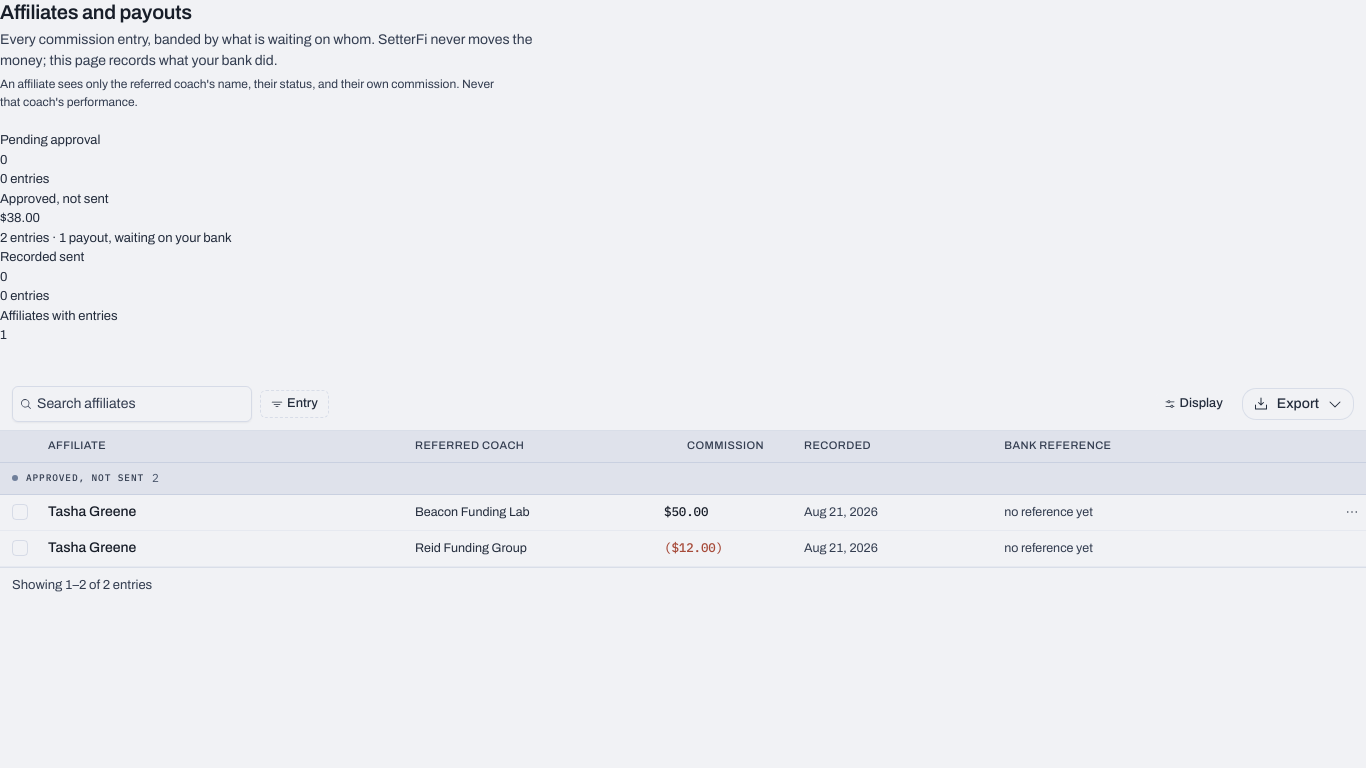
AdminMoneyAffiliates › says so when the entries it holds do not add up to the recorded payout total
Click the button "Tasha Greene" next to "Beacon Funding Lab". click: (92, 511)
box: [48,494,391,530]
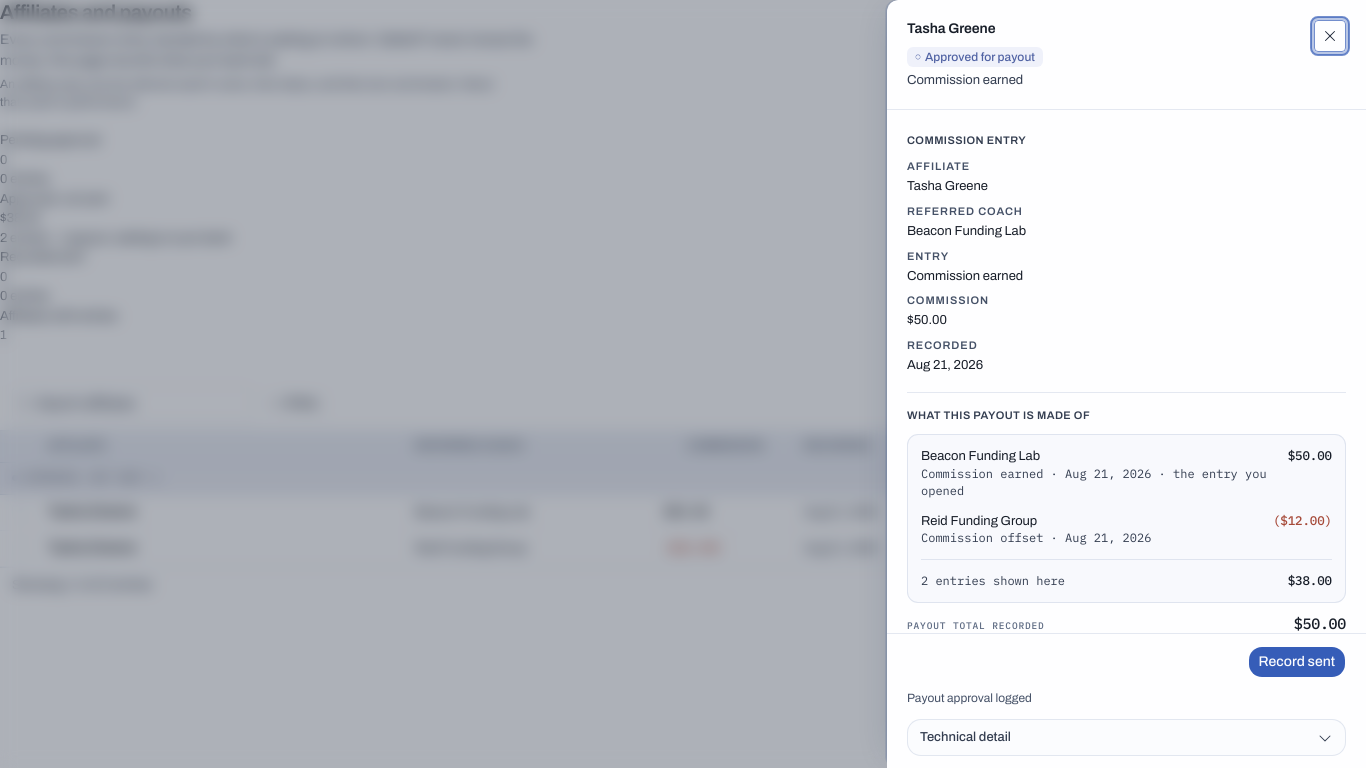
Check: the list named "Commission entries in this payout" does not show "$38.00", box [921,447,1332,547]
Check: the text "$38.00" is shown, box [1288,572,1332,588]
Check: the text "Payout total recorded" is shown, box [907,620,1045,631]
